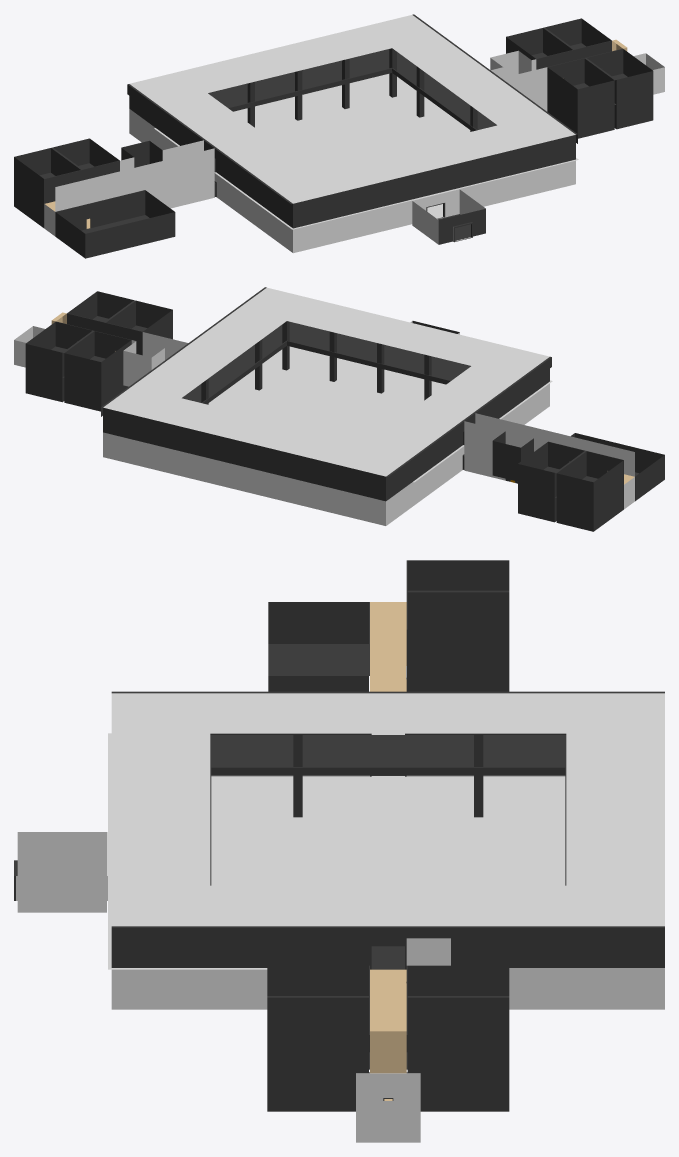
Rendered from OLDespacio liminal3.fbx.
3 renders of one model, top to bottom at view 1: azimuth 30°, elevation 25°; view 2: azimuth 150°, elevation 25°; view 3: azimuth 270°, elevation 25°, orthographic. The views are drawn at different scales.
Visible parts, largest first — view 1: TECHO, marco de puerta patio inferior.002, marco de puerta patio inferior.003, 4 salon superior derecha, pasillo inferior, salon taller izquierda, 2 salon superior izquierda, marco de puerta patio inferior.004, 3 salon inferior derecha, pilares, pasillo superior.001, 1 salon inferior izquierda (+3 smaller); view 2: TECHO, marco de puerta patio inferior.002, marco de puerta patio inferior.003, 4 salon superior derecha, 2 salon superior izquierda, pasillo inferior, 1 salon inferior izquierda, 3 salon inferior derecha, pilares, salon taller izquierda, escalera izquierda, escalera derecha (+2 smaller); view 3: TECHO, marco de puerta patio inferior.002, marco de puerta patio inferior.003, 4 salon superior derecha, 2 salon superior izquierda, salon taller izquierda, 3 salon inferior derecha, marco de puerta patio inferior.004, sala inferior derecho, pasillo superior.001, pasillo superior, escalera izquierda (+3 smaller).
Boxes of the visible parts, box(x1,y1,x2,y2) form: TECHO: box(129, 15, 575, 203); marco de puerta patio inferior.002: box(129, 74, 578, 253); marco de puerta patio inferior.003: box(127, 14, 577, 228); 4 salon superior derecha: box(506, 18, 653, 113); pasillo inferior: box(44, 140, 214, 236); salon taller izquierda: box(55, 190, 175, 258); 2 salon superior izquierda: box(14, 138, 119, 203); marco de puerta patio inferior.004: box(412, 189, 485, 244); 3 salon inferior derecha: box(547, 92, 653, 138); pilares: box(247, 48, 477, 131); pasillo superior.001: box(491, 39, 627, 96); 1 salon inferior izquierda: box(14, 182, 44, 227); TECHO: box(103, 287, 549, 476); marco de puerta patio inferior.002: box(103, 346, 552, 525); marco de puerta patio inferior.003: box(101, 287, 551, 501); 4 salon superior derecha: box(25, 291, 172, 386); 2 salon superior izquierda: box(518, 441, 623, 506); pasillo inferior: box(464, 413, 634, 509); 1 salon inferior izquierda: box(518, 485, 623, 531); 3 salon inferior derecha: box(25, 335, 172, 411); pilares: box(201, 321, 431, 404); salon taller izquierda: box(571, 433, 664, 501); escalera izquierda: box(492, 431, 533, 483); escalera derecha: box(123, 341, 164, 386); TECHO: box(111, 693, 664, 926); marco de puerta patio inferior.002: box(108, 733, 664, 1009); marco de puerta patio inferior.003: box(111, 691, 664, 969); 4 salon superior derecha: box(267, 965, 509, 1069); 2 salon superior izquierda: box(406, 560, 509, 664); salon taller izquierda: box(268, 602, 369, 691); 3 salon inferior derecha: box(267, 1028, 509, 1111); marco de puerta patio inferior.004: box(14, 832, 107, 912); sala inferior derecho: box(356, 1073, 420, 1142); pasillo superior.001: box(370, 969, 406, 1073); pasillo superior: box(370, 602, 406, 691); escalera izquierda: box(406, 634, 450, 691).
Bounding box in the file's own units: 12800 × 1000 × 7060.
